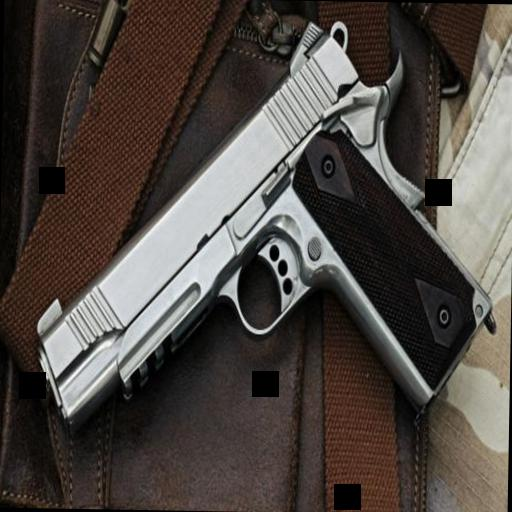Handgun: (19, 11, 504, 436)
